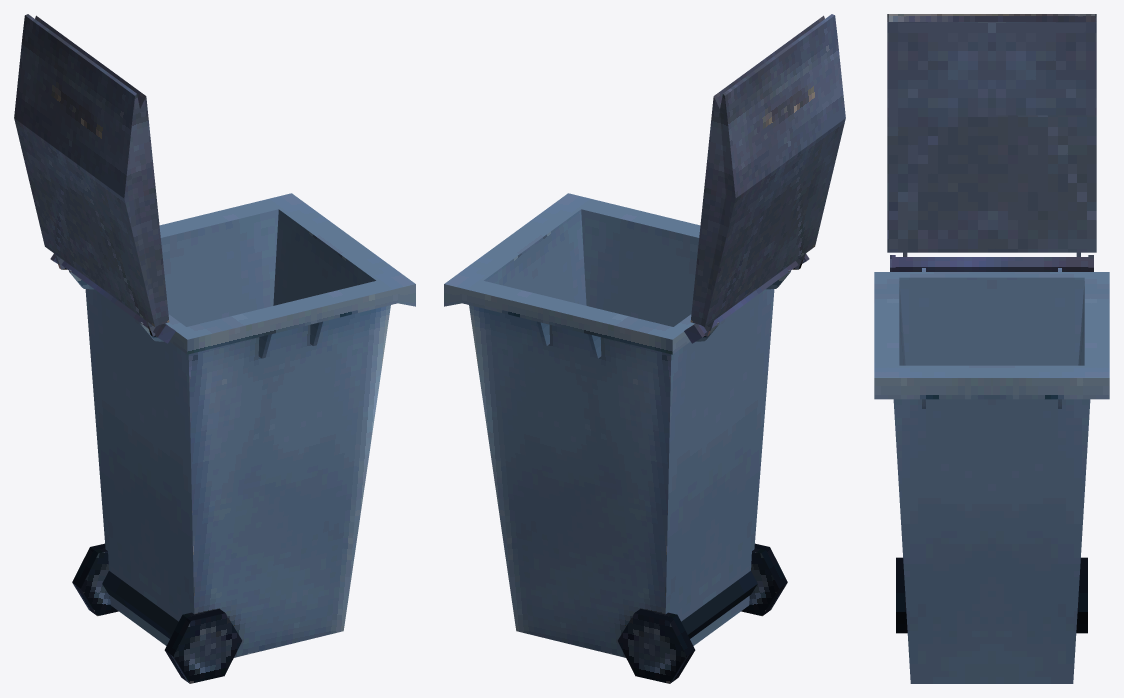
The model's file is trash_can_alt1_open.glb.
The picture shows the model from 3 angles, left to right: view 1: azimuth 30°, elevation 25°; view 2: azimuth 150°, elevation 25°; view 3: azimuth 270°, elevation 25°; orthographic projection. The views are drawn at different scales.
Visible parts, largest first — view 1: trash_can_alt1_open; view 2: trash_can_alt1_open; view 3: trash_can_alt1_open.
Part boxes in pixels (bbox=[...]): trash_can_alt1_open: bbox=[14, 14, 415, 683]; trash_can_alt1_open: bbox=[444, 14, 845, 683]; trash_can_alt1_open: bbox=[874, 14, 1109, 683].
Size of the model in its own units: 1.03 by 2.1 by 0.7794.
Materials: 1 (1 with a texture image).
